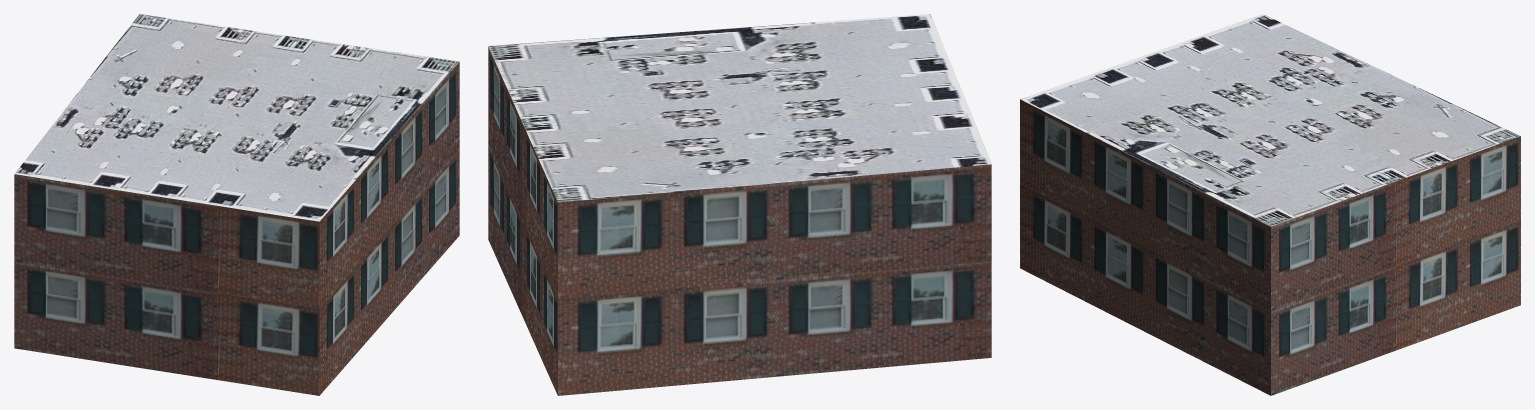
The model's file is ResTex__1634.fbx.
3 views of the same model, side by side, from view 1: azimuth 30°, elevation 25°; view 2: azimuth 150°, elevation 25°; view 3: azimuth 270°, elevation 25° (orthographic). The views are drawn at different scales.
Visible parts, largest first — view 1: CityEngineMaterial_14_m, CityEngineMaterial_8_m; view 2: CityEngineMaterial_14_m, CityEngineMaterial_8_m; view 3: CityEngineMaterial_14_m, CityEngineMaterial_8_m.
Part boxes in pixels (<box>): CityEngineMaterial_14_m: <box>14,62,459,395</box>; CityEngineMaterial_8_m: <box>14,14,459,221</box>; CityEngineMaterial_14_m: <box>488,47,991,395</box>; CityEngineMaterial_8_m: <box>488,14,991,202</box>; CityEngineMaterial_14_m: <box>1020,99,1520,395</box>; CityEngineMaterial_8_m: <box>1020,14,1520,226</box>.
Size of the model in its own units: 16.19 by 6 by 16.1.
2 materials, 2 textured.
